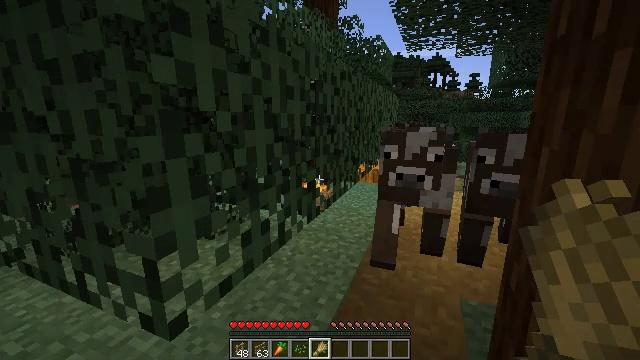cow: (455, 123, 535, 263), (378, 125, 446, 268)
